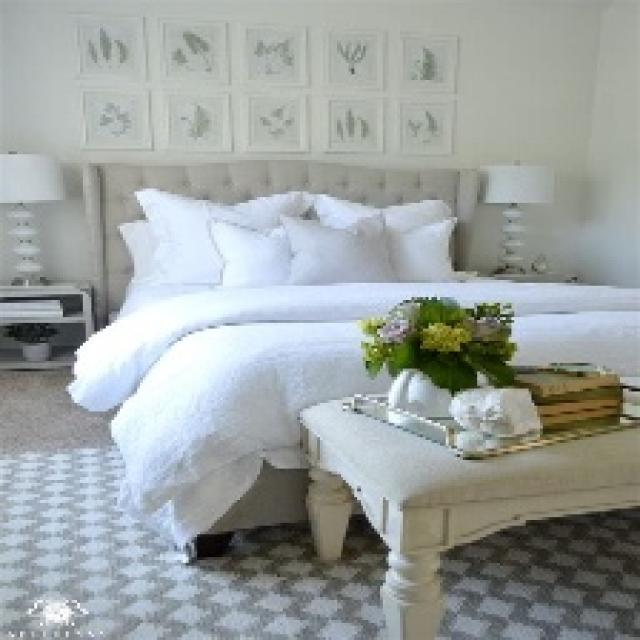lamp: (2, 140, 70, 294), (481, 150, 554, 280)
